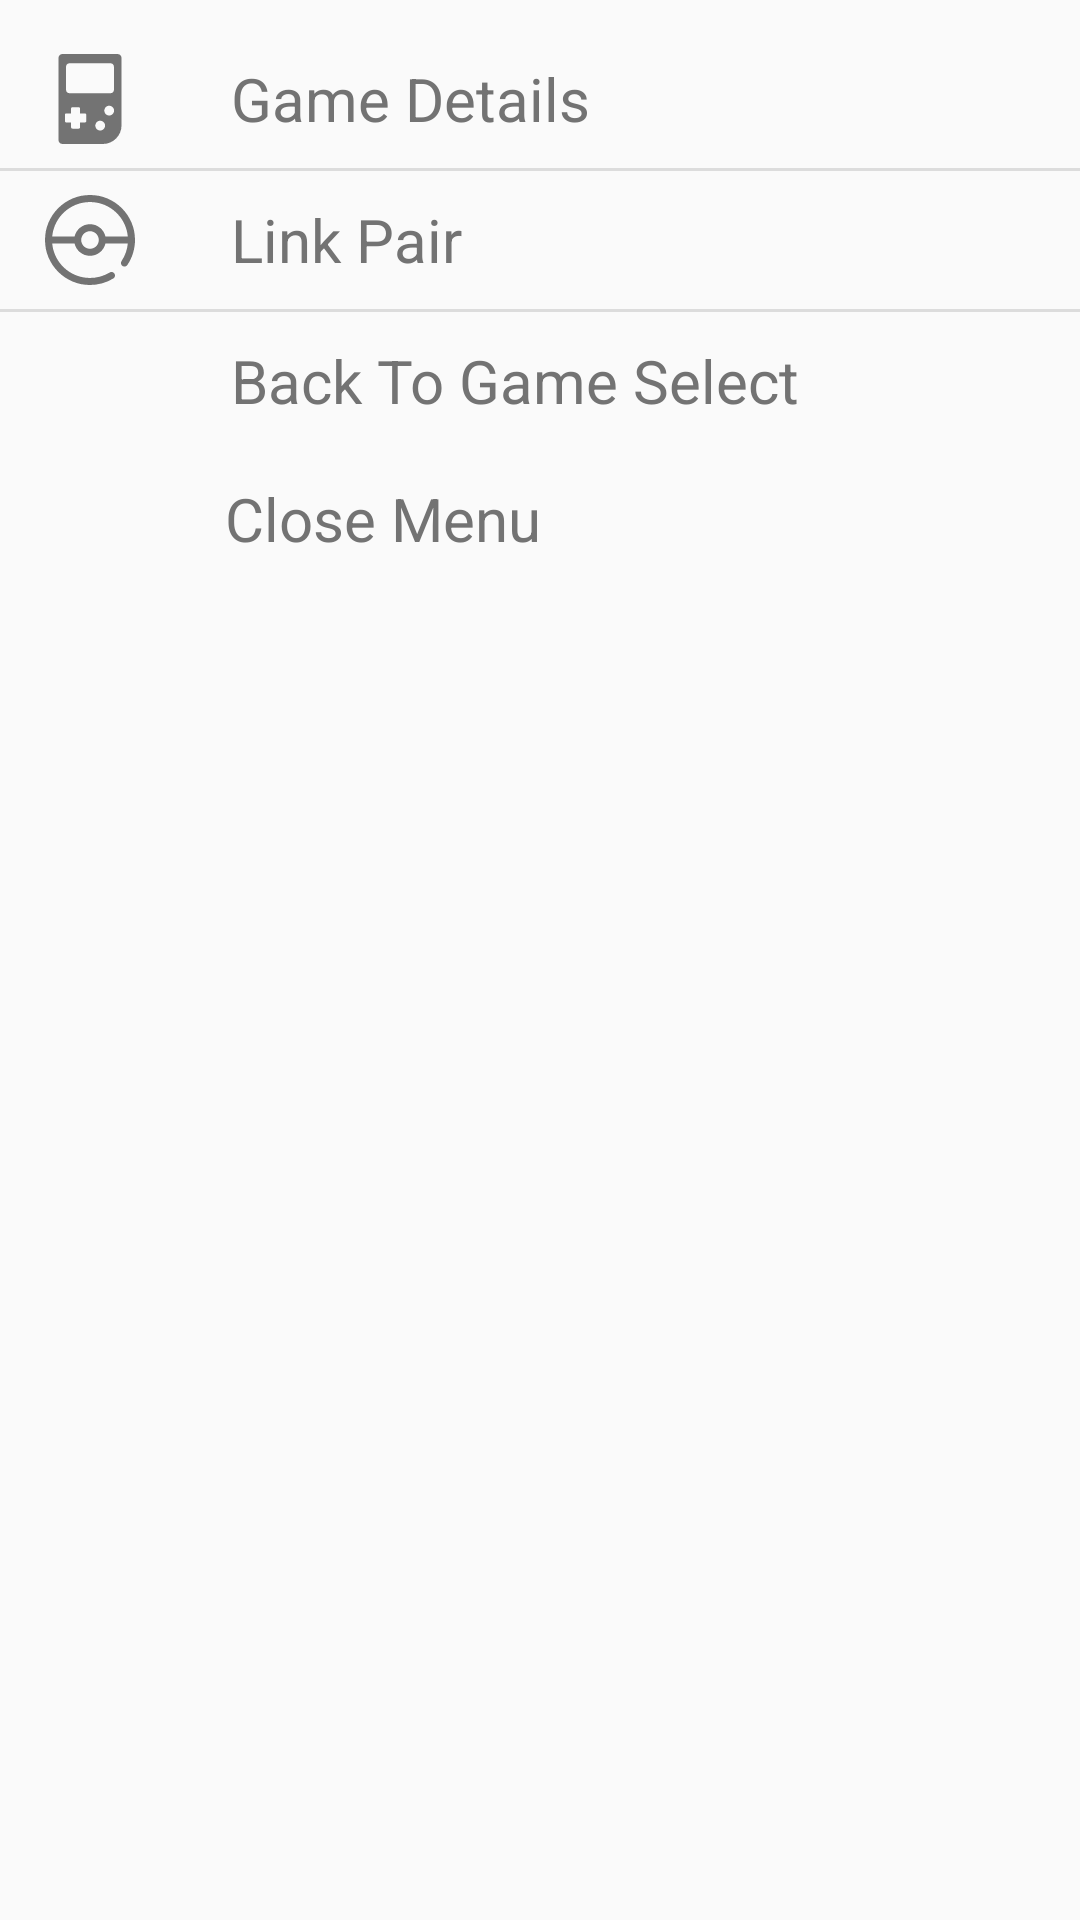

Named icons in this screenshot (1080w x 1920h) and their bounding boxes, box=[x1, y1, x2, y2]:
gameboy: box=[58, 54, 122, 144]
